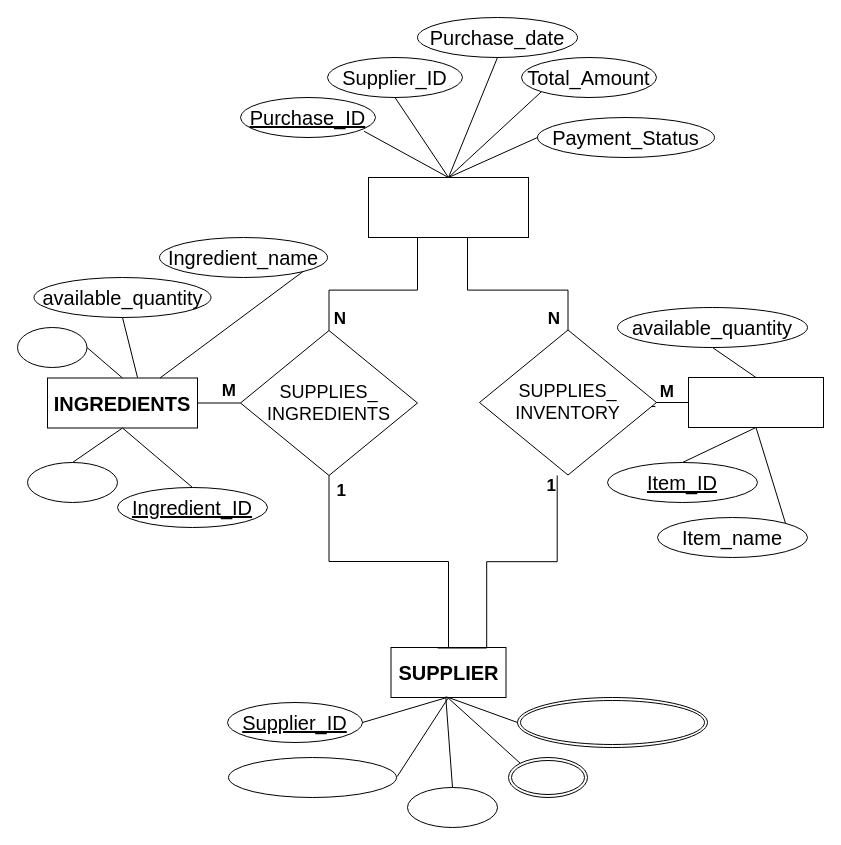
The diagram is 841 pixels wide and 845 high, and some of its shapes have lost their labels. The shapes that lost their labels are listed below. From the top down, each one's centre as x and y in pixels, then its label:
point (448, 207): PURCHASE
point (51, 347): is_veg
point (756, 402): INVENTORY
point (72, 482): category
point (612, 722): Contact_Number
point (312, 777): Supplier_Name
point (548, 777): Email
point (452, 807): Address
